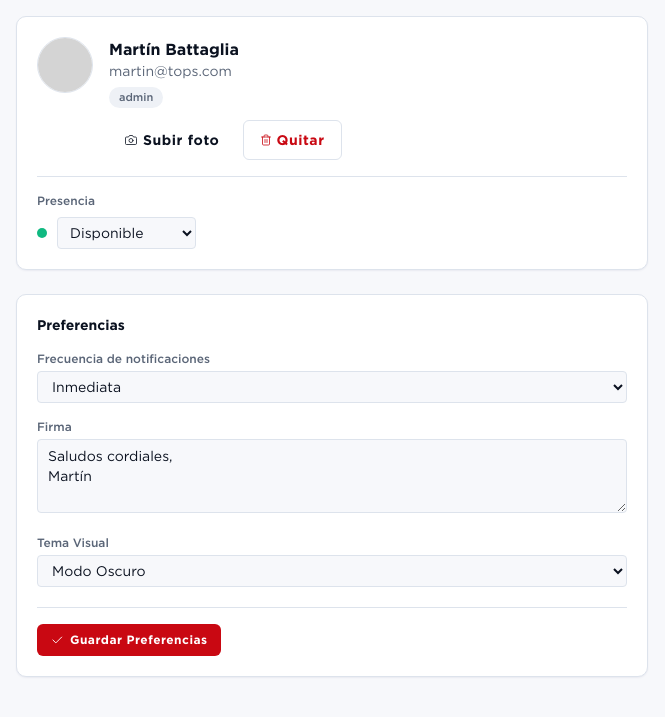
Test: ProfileForm DOM Regression & Safety Tests › actualiza presencia instantáneamente mediante setPresenceAction sin esperar guardar formulario
Select "Ocupado" in the dropdown labelled "Presencia": (126, 232) [57, 216, 196, 248]
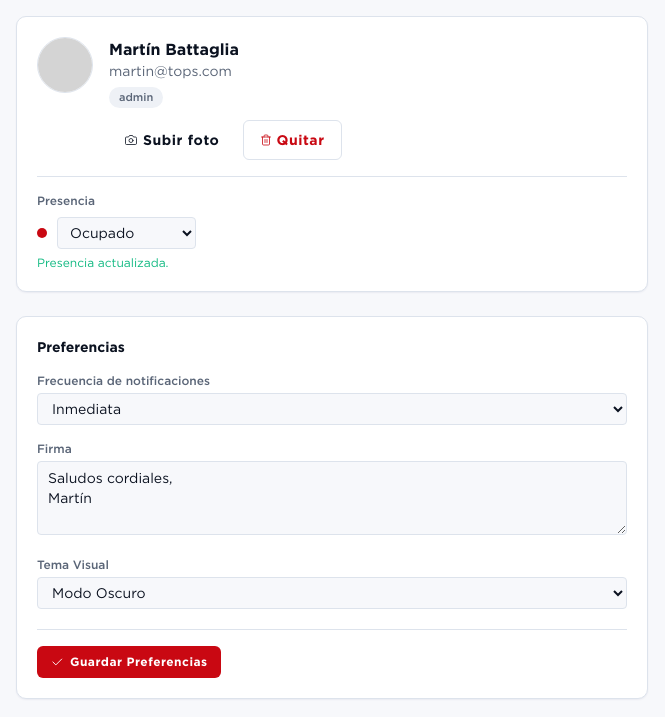
Result: the text "Presencia actualizada." is shown at [37, 256, 168, 268]
